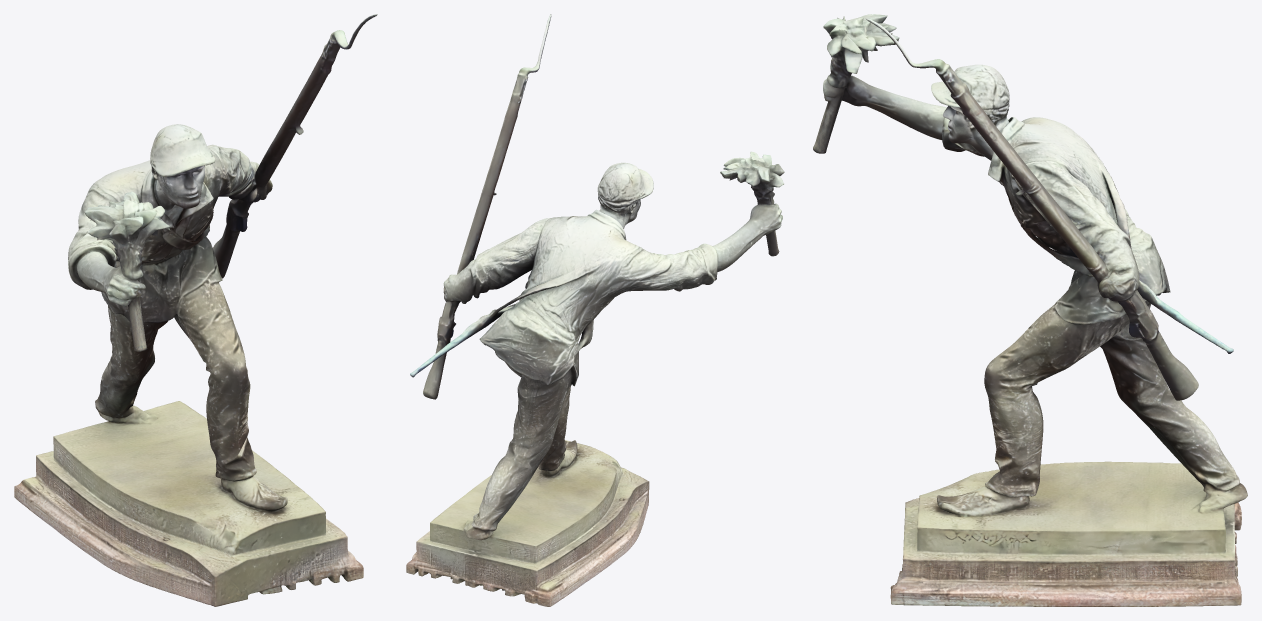
Rendered from base_basic_shaded.glb.
3 views of the same model, side by side, from view 1: azimuth 30°, elevation 25°; view 2: azimuth 150°, elevation 25°; view 3: azimuth 270°, elevation 25° (orthographic). The views are drawn at different scales.
Parts seen in each view (by area): view 1: model; view 2: model; view 3: model.
Boxes of the visible parts, box(x1,y1,x2,y2) form: model: box(14, 14, 377, 606); model: box(406, 14, 784, 606); model: box(813, 14, 1247, 606).
Bounding box in the file's own units: 0.9554 × 1.71 × 1.15.
Materials: 1 (1 with a texture image).
